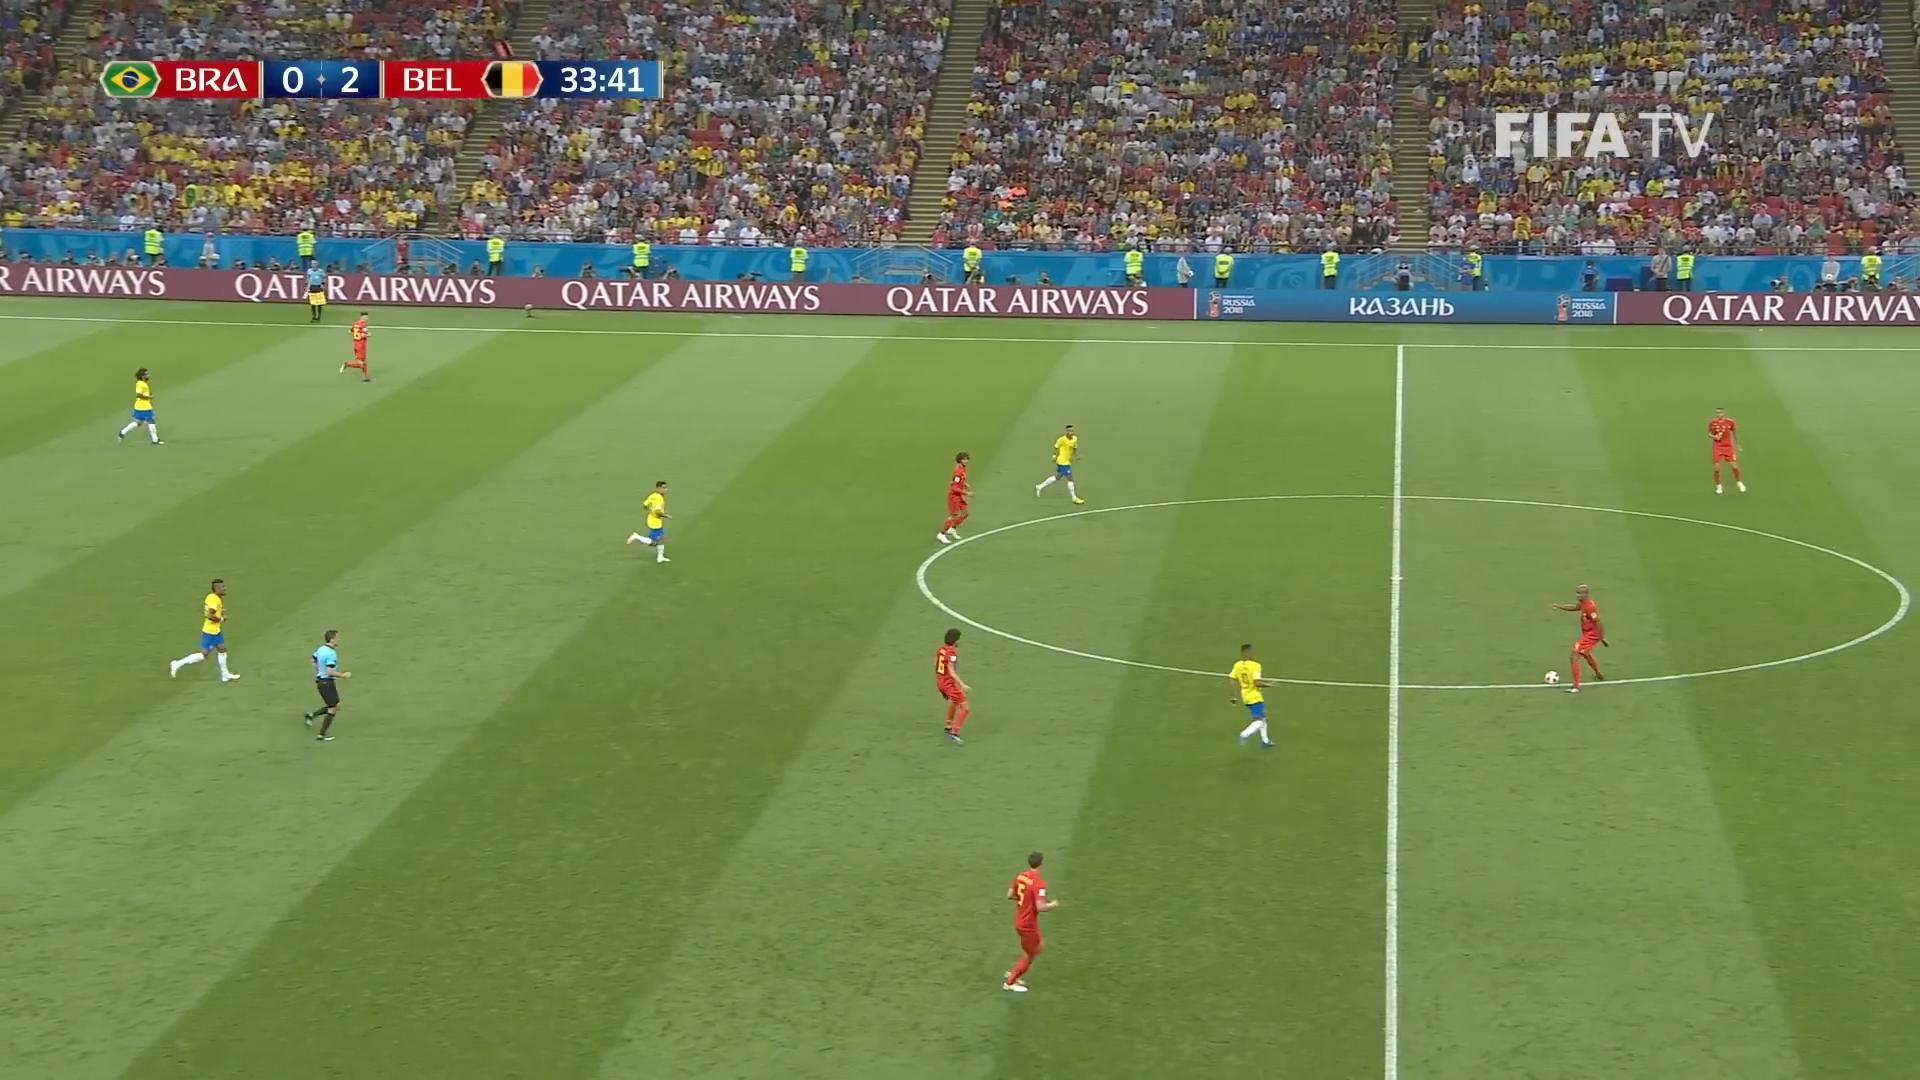ball: (1545, 670, 1561, 687)
player: (1001, 850, 1059, 992), (168, 578, 241, 683), (1549, 582, 1609, 693), (1227, 641, 1276, 747), (933, 627, 972, 744), (1033, 423, 1085, 505), (625, 479, 672, 563), (115, 366, 164, 445), (935, 450, 973, 544), (1706, 407, 1746, 494), (339, 310, 371, 382)
referee: (303, 627, 351, 741), (302, 257, 327, 322)
